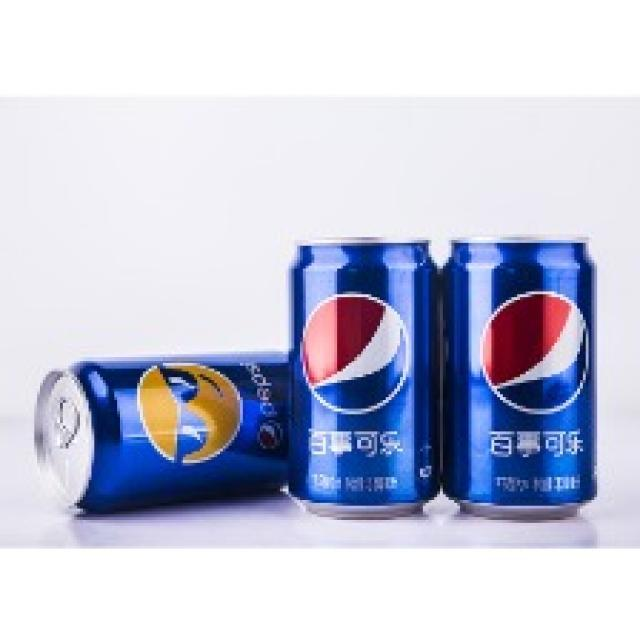metel: (285, 226, 438, 535), (450, 224, 595, 522)
